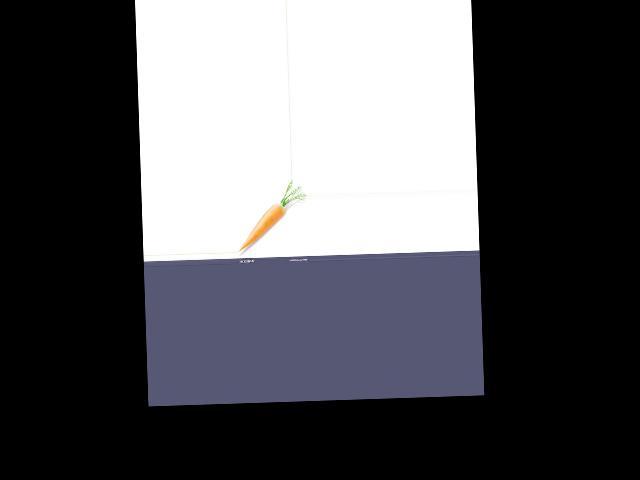carrot: (236, 189, 293, 253)
